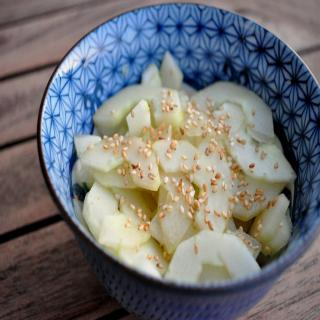Cucumber: (71, 51, 292, 282), (224, 131, 297, 183)
